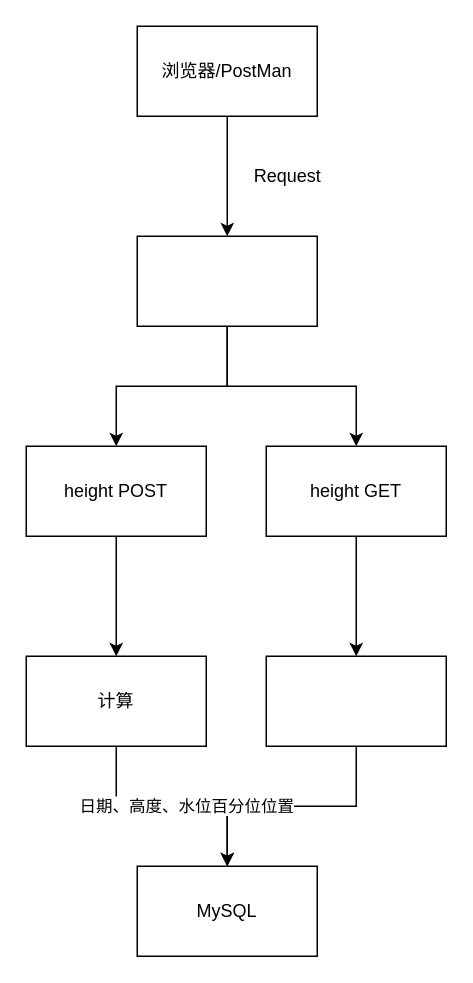
This 473x983 diagram has some shape labels left out. The shapes that lost their labels are listed below. From the top down, each one's box as (x1, y1, x2, y2) in pixels, then its label:
(136, 235, 317, 326): Http server
(265, 655, 446, 746): 查询过去Y天数据
